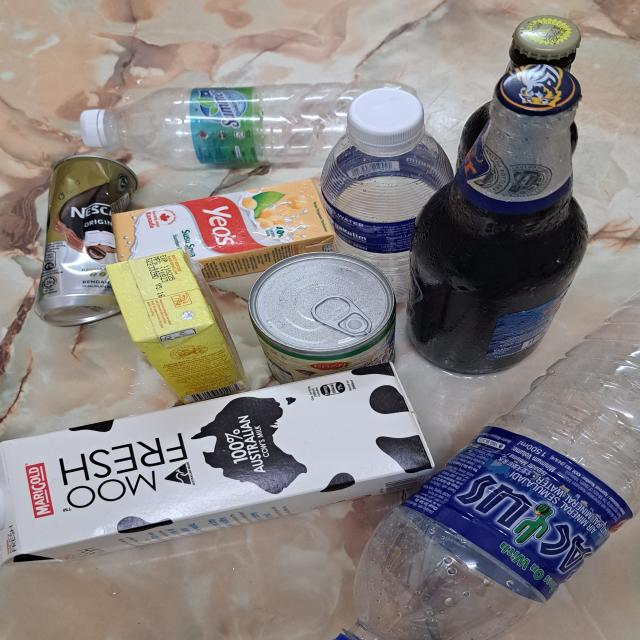can: (247, 251, 397, 384), (36, 153, 140, 329)
drink carton: (0, 360, 434, 568), (110, 178, 338, 282), (108, 249, 249, 403)
glass bottle: (406, 63, 588, 374), (456, 15, 582, 164)
plastic bottle: (345, 284, 640, 640), (105, 81, 416, 169), (324, 129, 458, 304)
plastic bottle cap: (350, 88, 426, 147), (79, 109, 106, 147)
pop tab: (311, 294, 372, 337)
